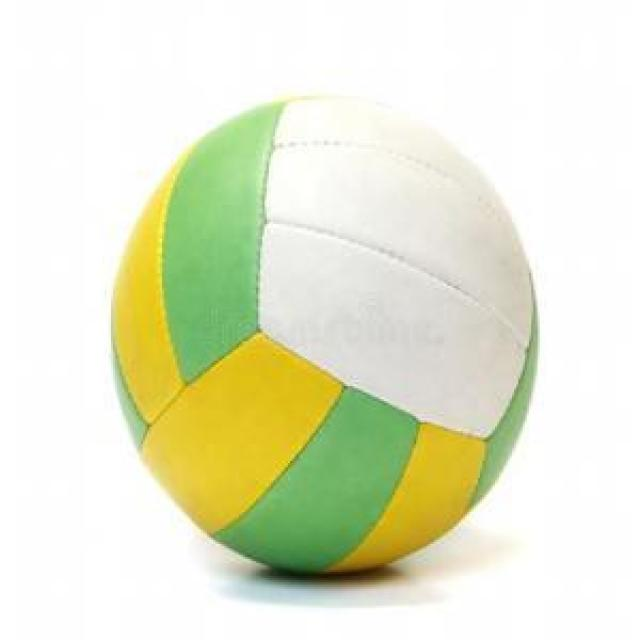volleyball: (109, 94, 542, 574)
